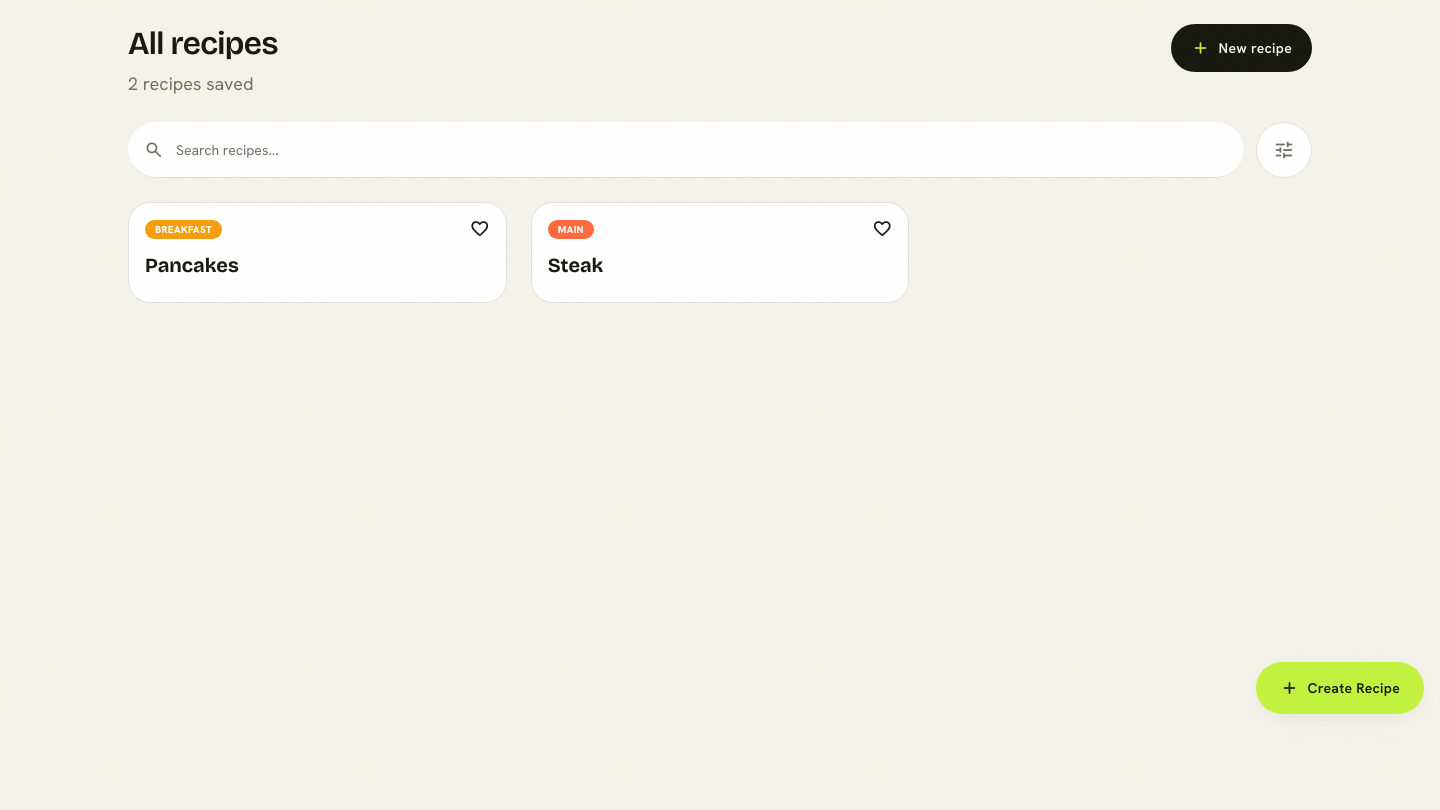
Test case: RecipeList Page › category filtering › should reveal category filter chips via the tune control
Click the button named "toggle category filters": (1284, 150) x1=1256 y1=122 x2=1312 y2=178
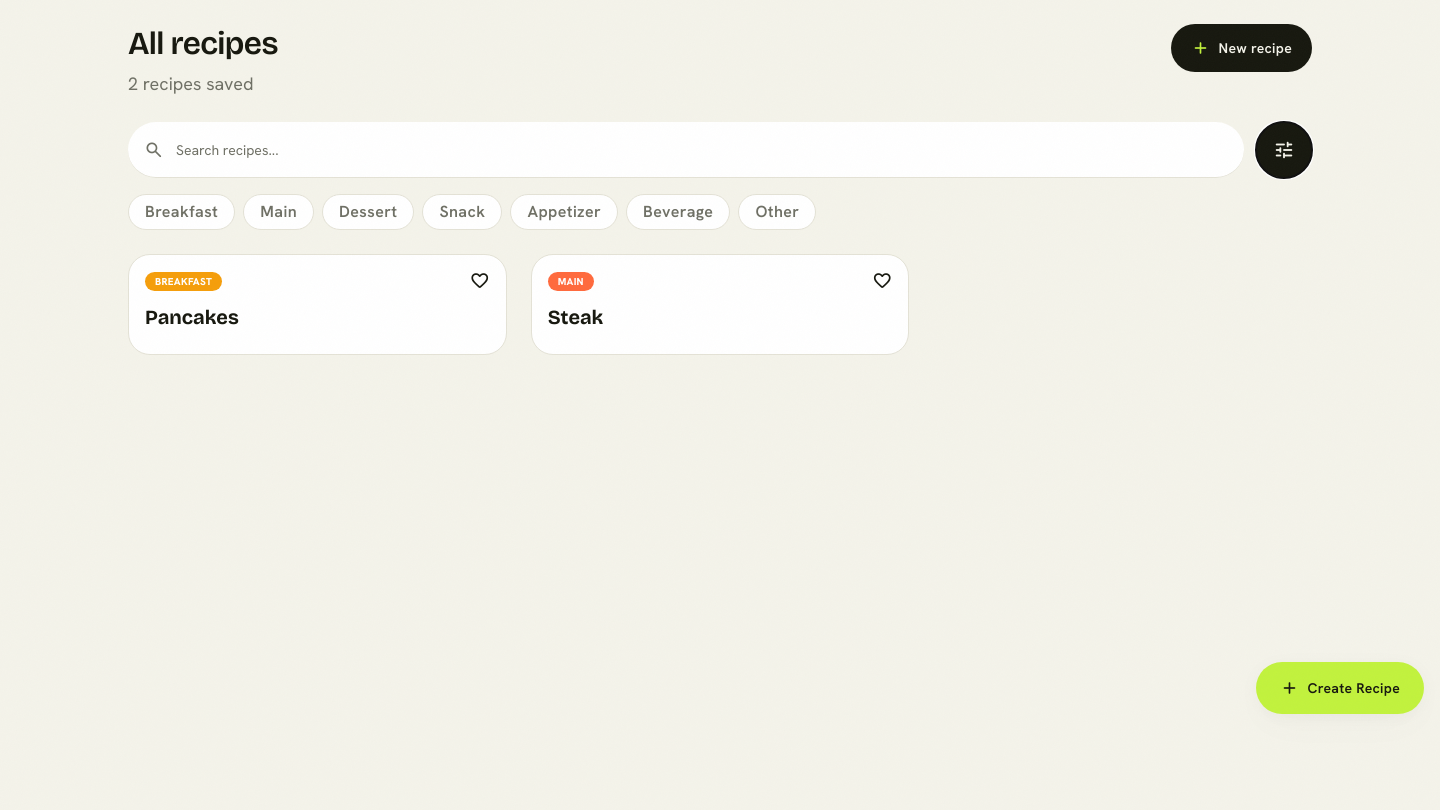
Expected: the button "Breakfast" is shown, x1=128 y1=194 x2=235 y2=230
Expected: the button "Dessert" is shown, x1=322 y1=194 x2=414 y2=230
